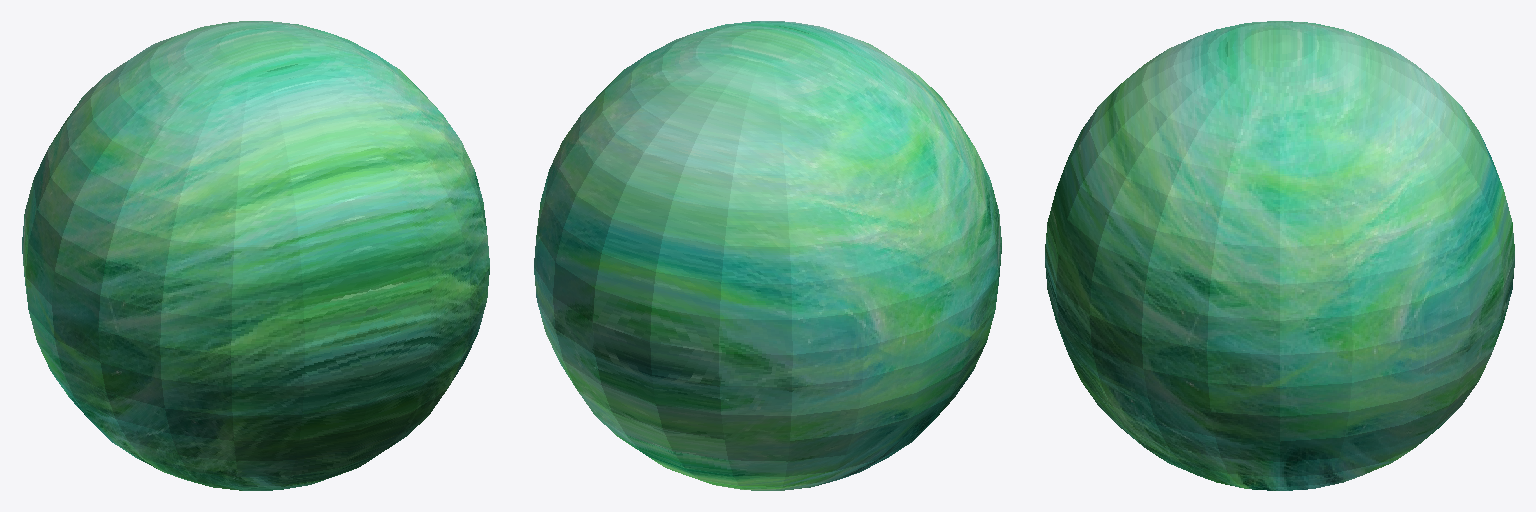
3 views of the same model, side by side, from view 1: azimuth 30°, elevation 25°; view 2: azimuth 150°, elevation 25°; view 3: azimuth 270°, elevation 25° (orthographic).
Visible parts, largest first — view 1: pSphere1; view 2: pSphere1; view 3: pSphere1.
Part boxes in pixels (bbox=[...]): pSphere1: bbox=[22, 21, 489, 490]; pSphere1: bbox=[534, 21, 1001, 490]; pSphere1: bbox=[1045, 21, 1514, 490].
Size of the model in its own units: 2 by 2 by 2.
Materials: 1 (1 with a texture image).